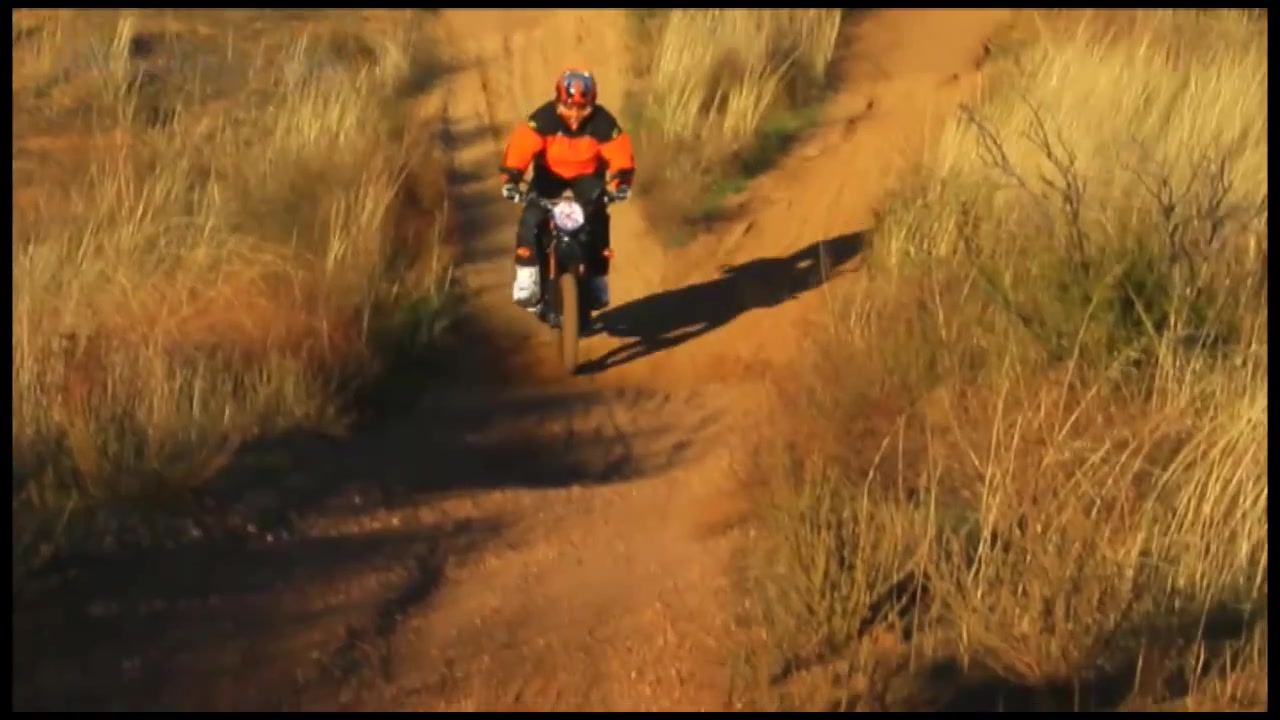motorbike: (504, 176, 630, 380)
